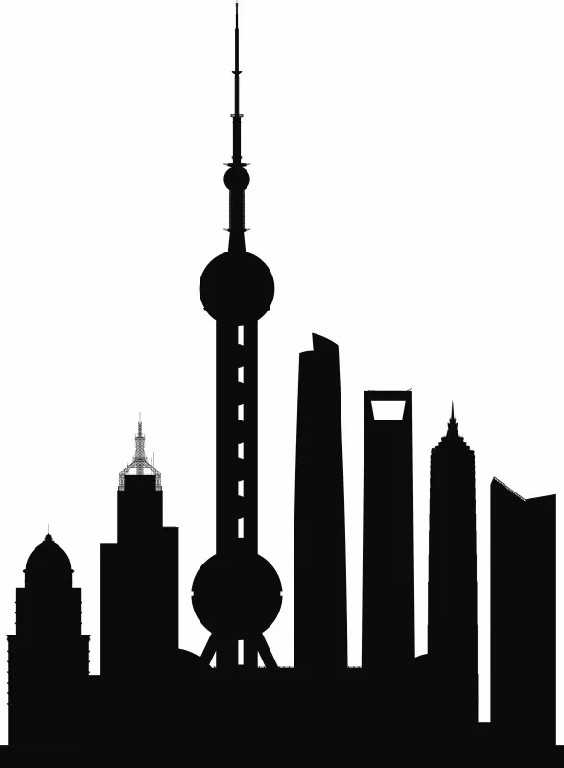Oriental: (190, 2, 283, 669)
